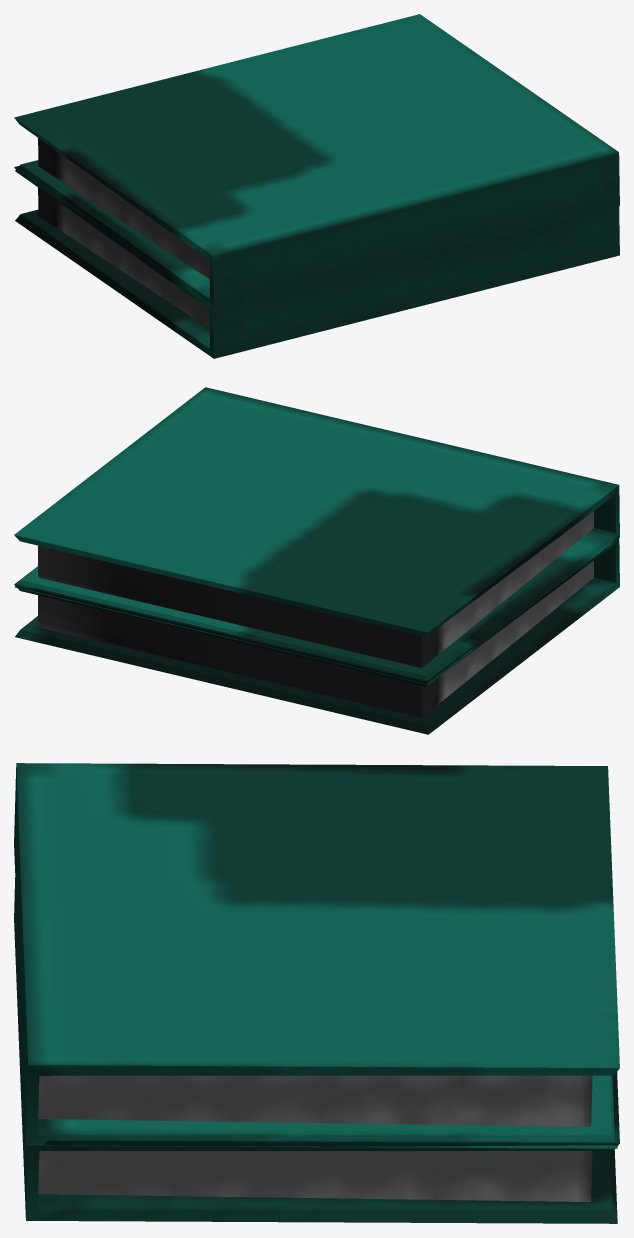
Rendered from Tx_props_double_medical_books.fbx.
The picture shows the model from 3 angles, top to bottom: view 1: azimuth 30°, elevation 25°; view 2: azimuth 150°, elevation 25°; view 3: azimuth 270°, elevation 25°; orthographic projection. The views are drawn at different scales.
Parts seen in each view (by area): view 1: Tx_props_double_medical_books; view 2: Tx_props_double_medical_books; view 3: Tx_props_double_medical_books.
Part boxes in pixels (x1,y1,x2,y2): Tx_props_double_medical_books: (14, 14, 619, 358); Tx_props_double_medical_books: (14, 387, 619, 734); Tx_props_double_medical_books: (14, 763, 619, 1223).
Bounding box in the file's own units: 2.7 × 0.669 × 2.26.
